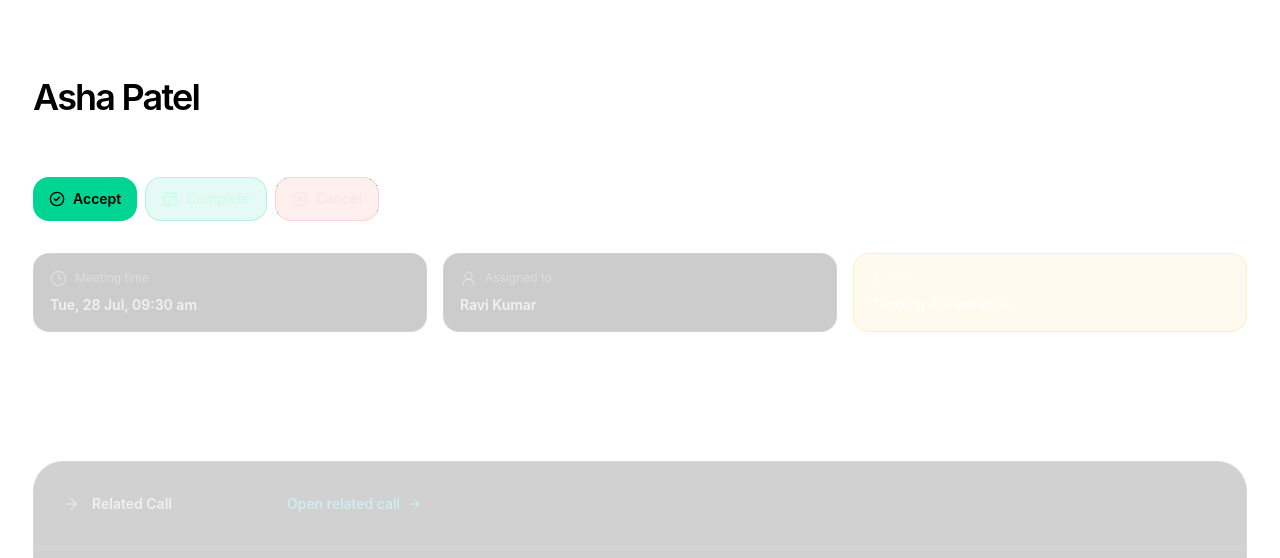
it: BookingsPage / Meetings › accepts a meeting and updates state
(page scrolled)
Click the button with aria-label "Accept meeting". click: (85, 198)
box: [33,176,137,220]
(page scrolled)
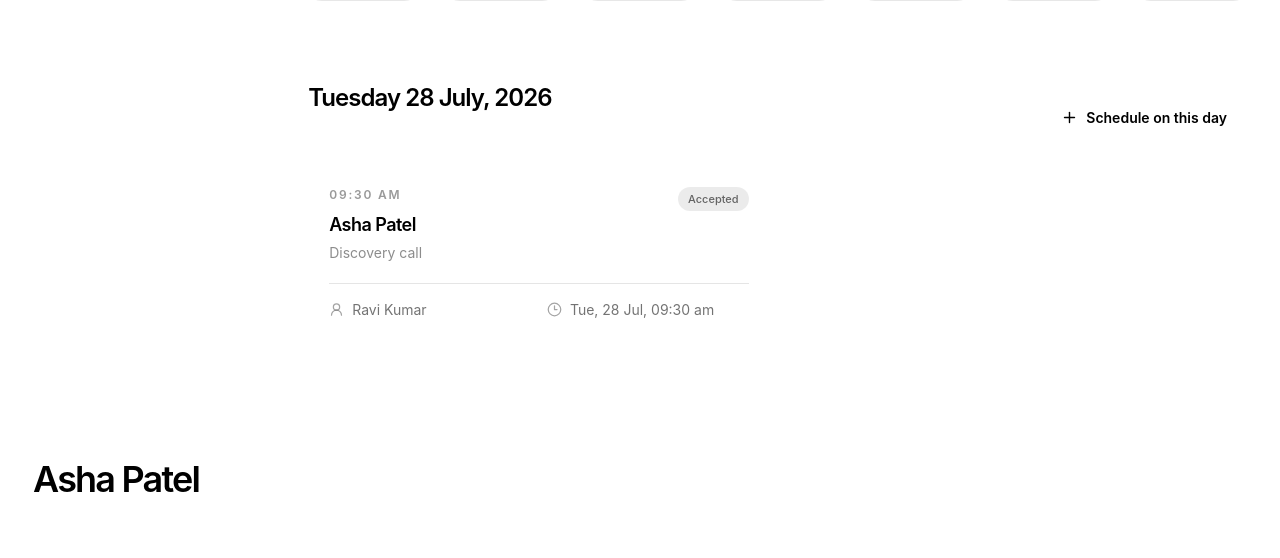
Check: the text "Accepted" is shown, box [678,186,749,211]
